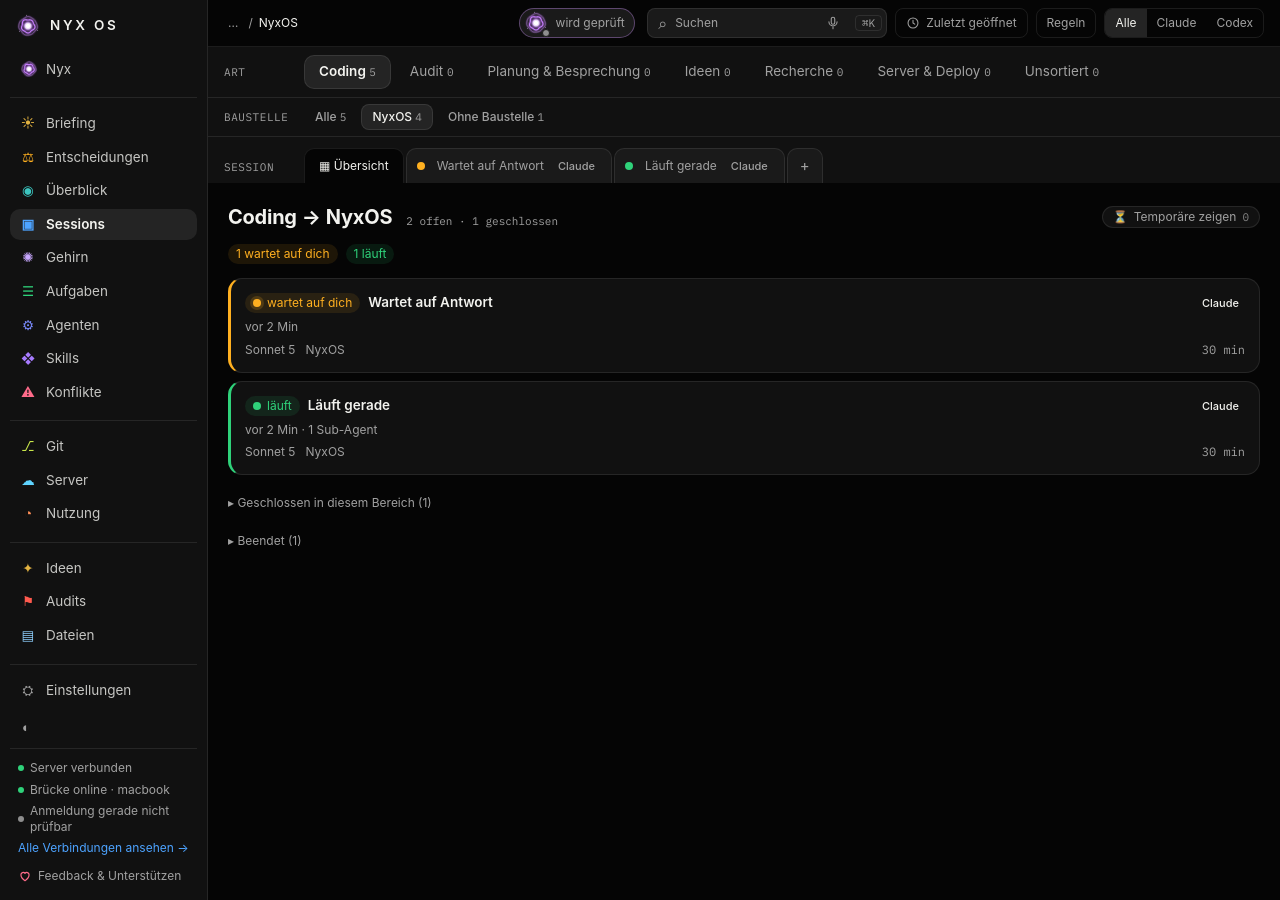
Scenario: Sessions-Tab: Übersicht › Art-Tab schreibt die URL (Brotkrümel wechselt)
Check: the list named "Sessions in" is shown, box [228, 278, 1260, 475]
Click the tab "Audit 0" at (432, 72), box [395, 55, 468, 89]
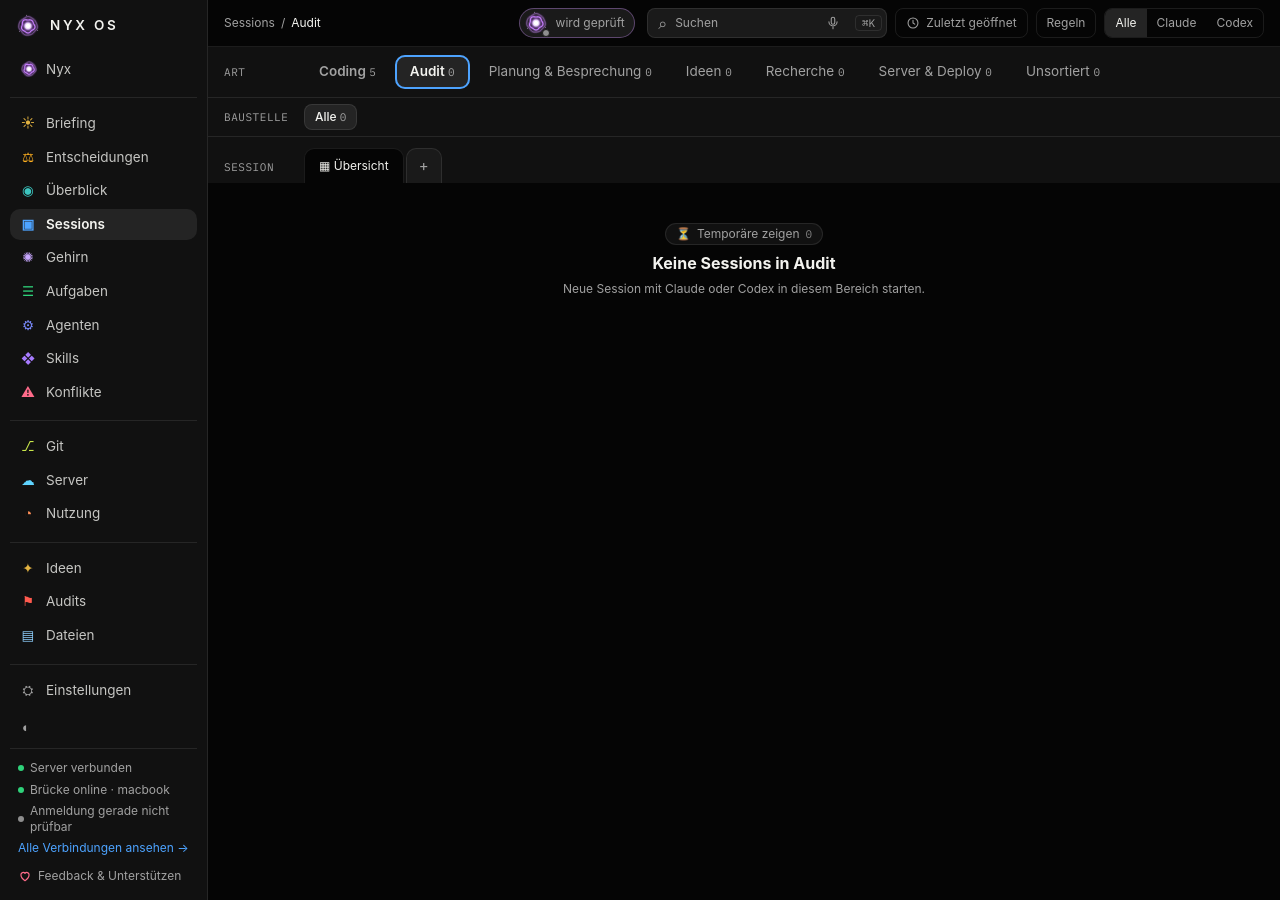
Check: the text "Audit" is shown, box [291, 15, 321, 31]
